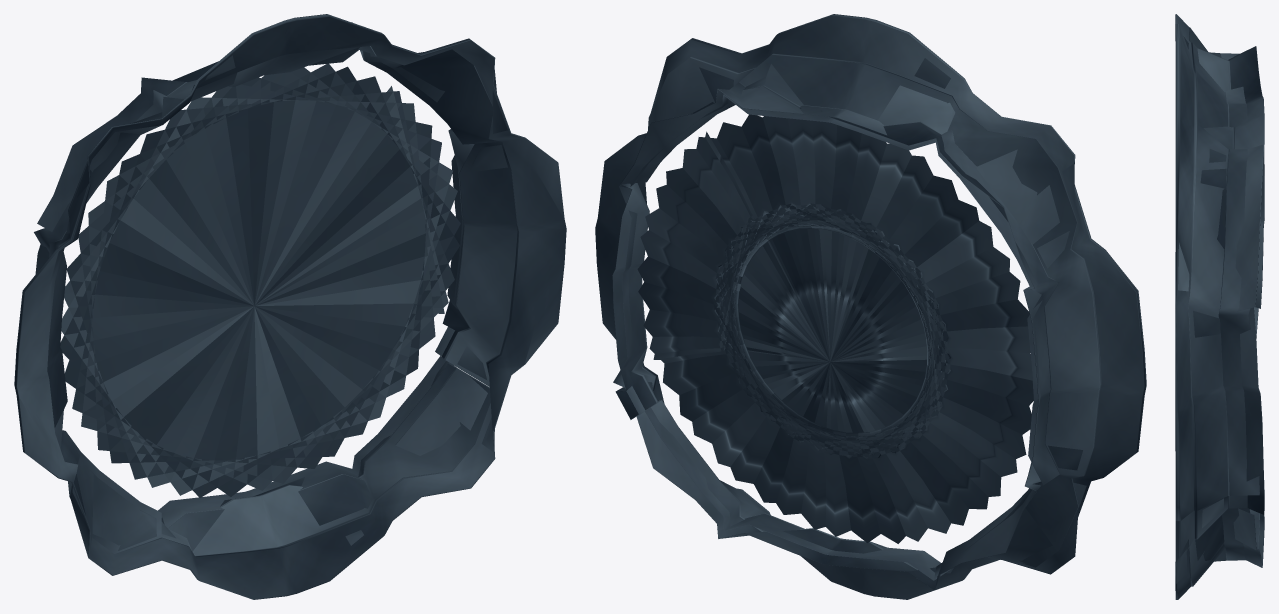
File: ai_adam_optimizer_ultra-hd_fallback_1767635107187 (1).glb
3 views of the same model, side by side, from view 1: azimuth 30°, elevation 25°; view 2: azimuth 150°, elevation 25°; view 3: azimuth 270°, elevation 25° (orthographic). The views are drawn at different scales.
Visible parts, largest first — view 1: MathShape (×2); view 2: MathShape (×2); view 3: MathShape.
Part boxes in pixels (<box>): MathShape (×2): <box>14,14,566,599</box>; MathShape (×2): <box>595,14,1146,599</box>; MathShape: <box>1175,14,1264,599</box>.
Bounding box in the file's own units: 1.35 × 1.34 × 0.2021.
2 materials, 2 textured.
